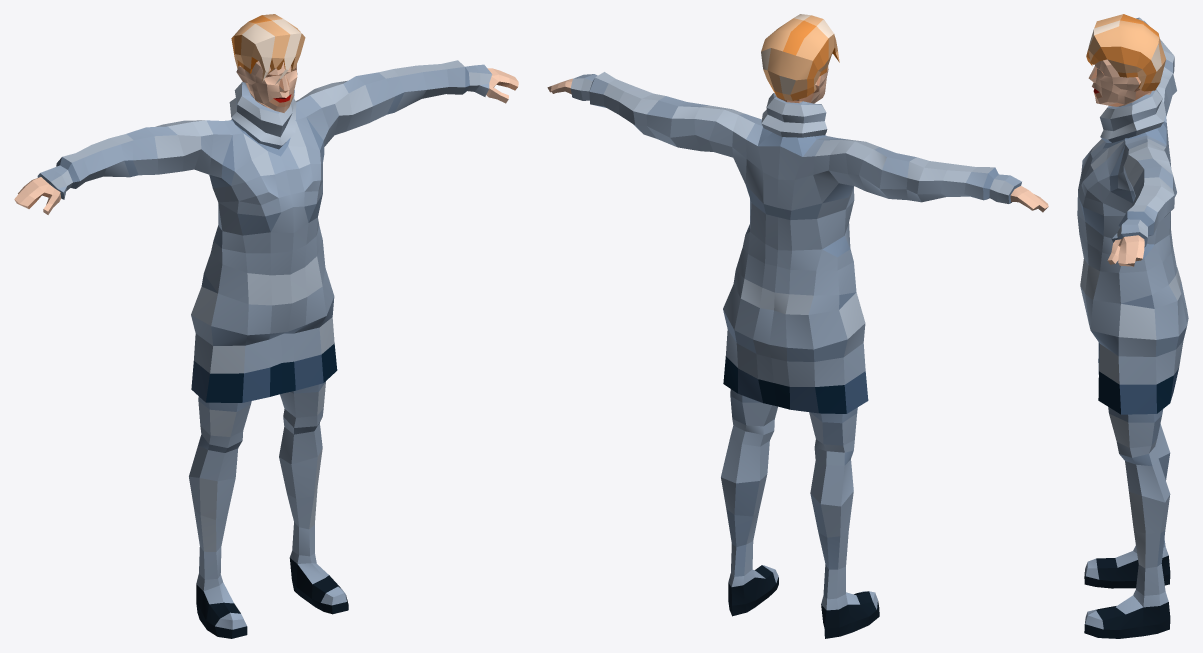
Rendered from winter_Female_A-model.obj.
3 views of the same model, side by side, from view 1: azimuth 30°, elevation 25°; view 2: azimuth 150°, elevation 25°; view 3: azimuth 270°, elevation 25° (orthographic).
Parts seen in each view (by area): view 1: winter_Female_A, acc_short_hair; view 2: winter_Female_A, acc_short_hair; view 3: winter_Female_A, acc_short_hair.
Boxes of the visible parts, bbox=[...] form: winter_Female_A: bbox=[14, 60, 518, 638]; acc_short_hair: bbox=[231, 14, 305, 84]; winter_Female_A: bbox=[547, 66, 1048, 638]; acc_short_hair: bbox=[761, 14, 839, 100]; winter_Female_A: bbox=[1077, 17, 1188, 638]; acc_short_hair: bbox=[1086, 14, 1165, 91].
Bounding box in the file's own units: 153 × 173 × 29.68.
